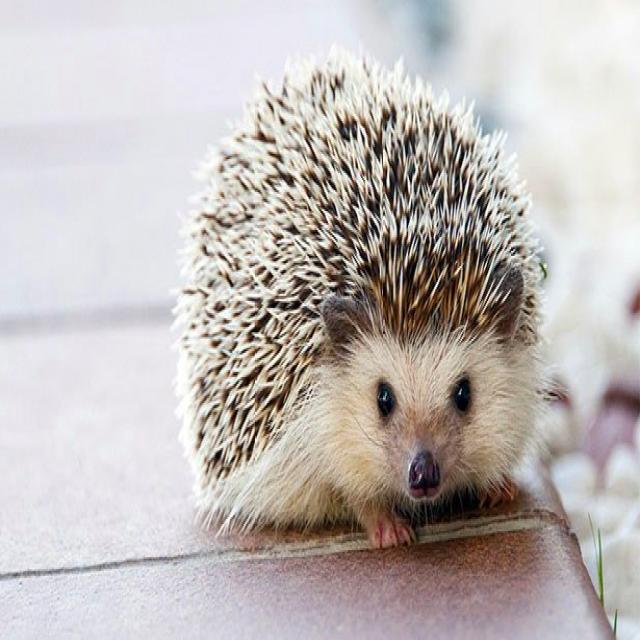hedgehog: (177, 55, 561, 547)
